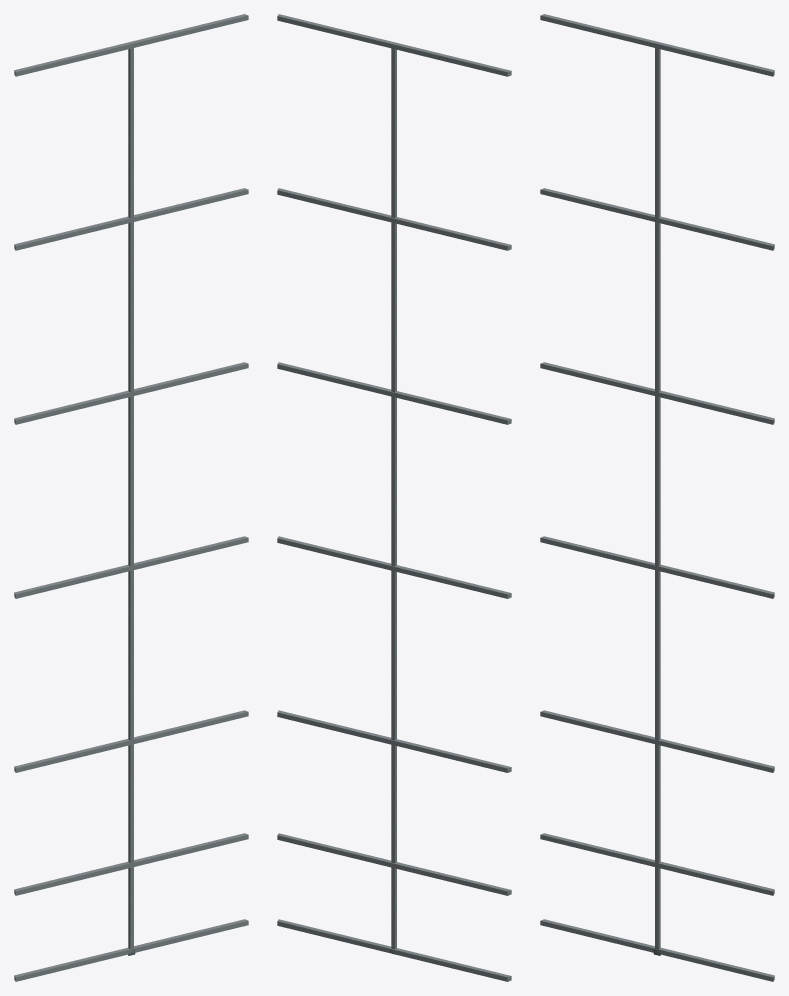
The model's file is G7_Completion_Prior_G7_MiddleExterior_E07_r001.glb.
3 views of the same model, side by side, from view 1: azimuth 30°, elevation 25°; view 2: azimuth 150°, elevation 25°; view 3: azimuth 330°, elevation 25° (orthographic).
Parts seen in each view (by area): view 1: G7_MiddleExterior_E07_frame; view 2: G7_MiddleExterior_E07_frame; view 3: G7_MiddleExterior_E07_frame.
Part boxes in pixels (left/top/right/bottom): G7_MiddleExterior_E07_frame: left=14, top=14, right=248, bottom=981; G7_MiddleExterior_E07_frame: left=277, top=14, right=511, bottom=981; G7_MiddleExterior_E07_frame: left=540, top=14, right=774, bottom=981.
Bounding box in the file's own units: 11.9 × 44.5 × 0.22.
Materials: 2 (2 with a texture image).
